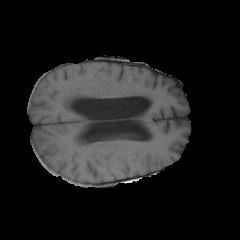glioma: (60, 77, 155, 103)
